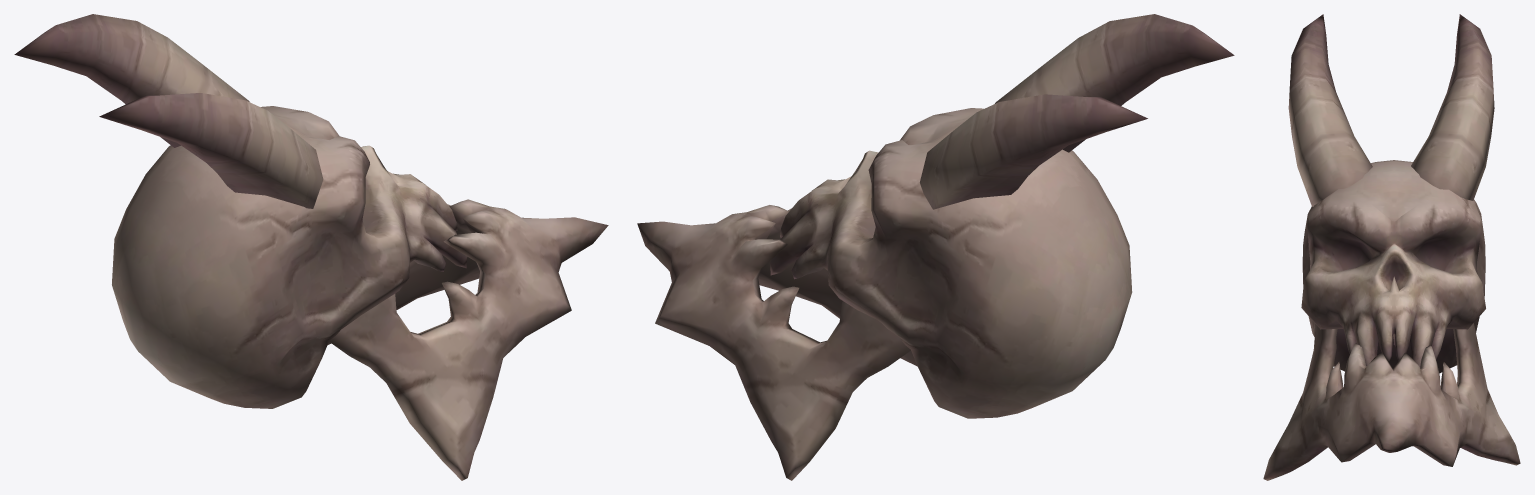
3 views of the same model, side by side, from view 1: azimuth 30°, elevation 25°; view 2: azimuth 150°, elevation 25°; view 3: azimuth 270°, elevation 25° (orthographic). The views are drawn at different scales.
Bounding box in the file's own units: 4.94 × 3.72 × 2.49.
1 material, 1 textured.
